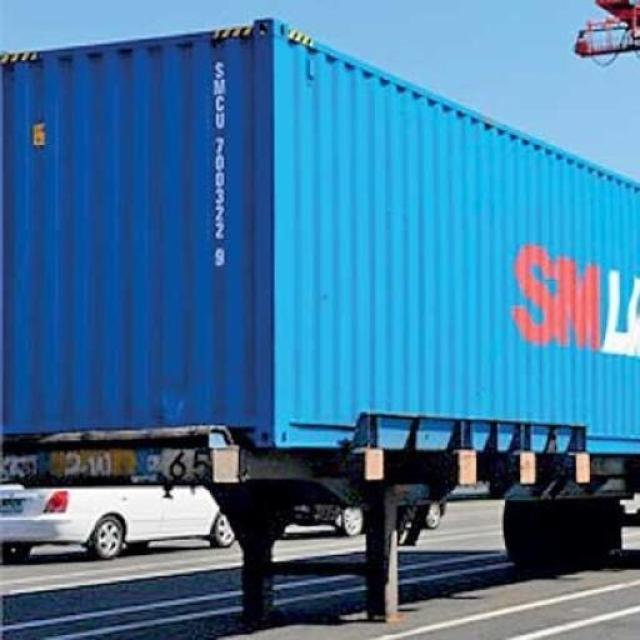container_number: (205, 56, 232, 272)
